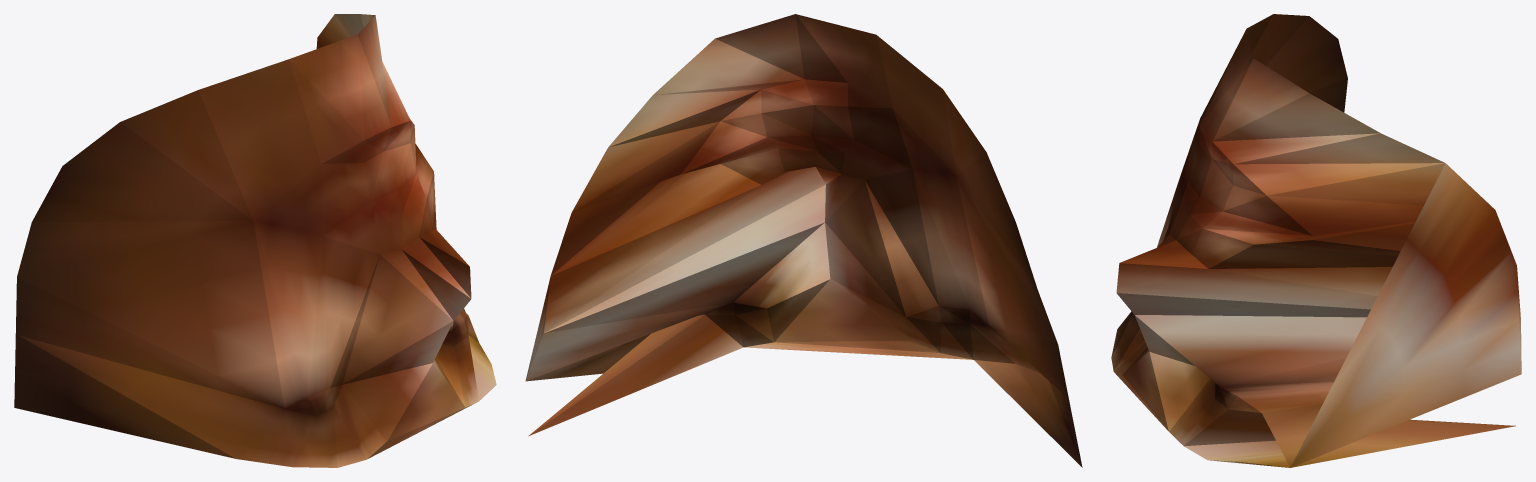
Rendered from real_44085.obj.
The picture shows the model from 3 angles, left to right: view 1: azimuth 30°, elevation 25°; view 2: azimuth 150°, elevation 25°; view 3: azimuth 270°, elevation 25°; orthographic projection. The views are drawn at different scales.
Bounding box in the file's own units: 105 × 81 × 86.59.
